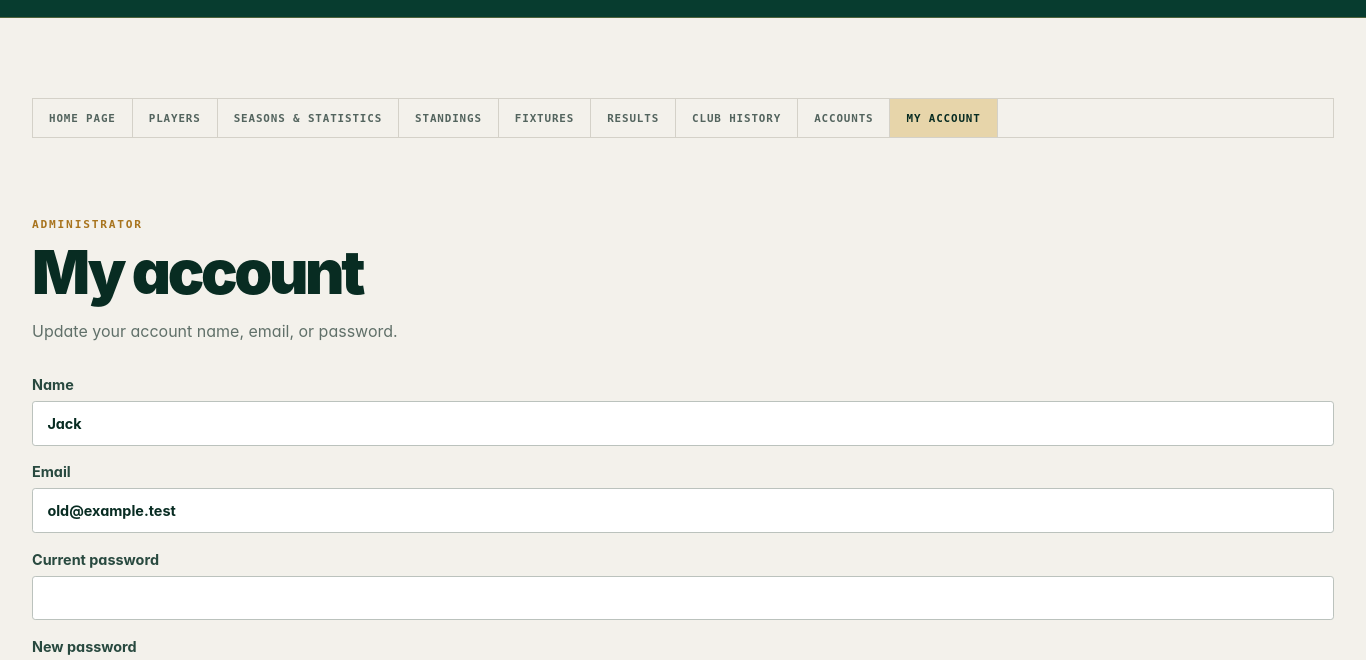
Test: App › lets the administrator update their normal login details
The image size is (1366, 660).
Replace the text in the field labelled "Name" with "Jack Humphreys" at (683, 424), box [32,401,1334,446]
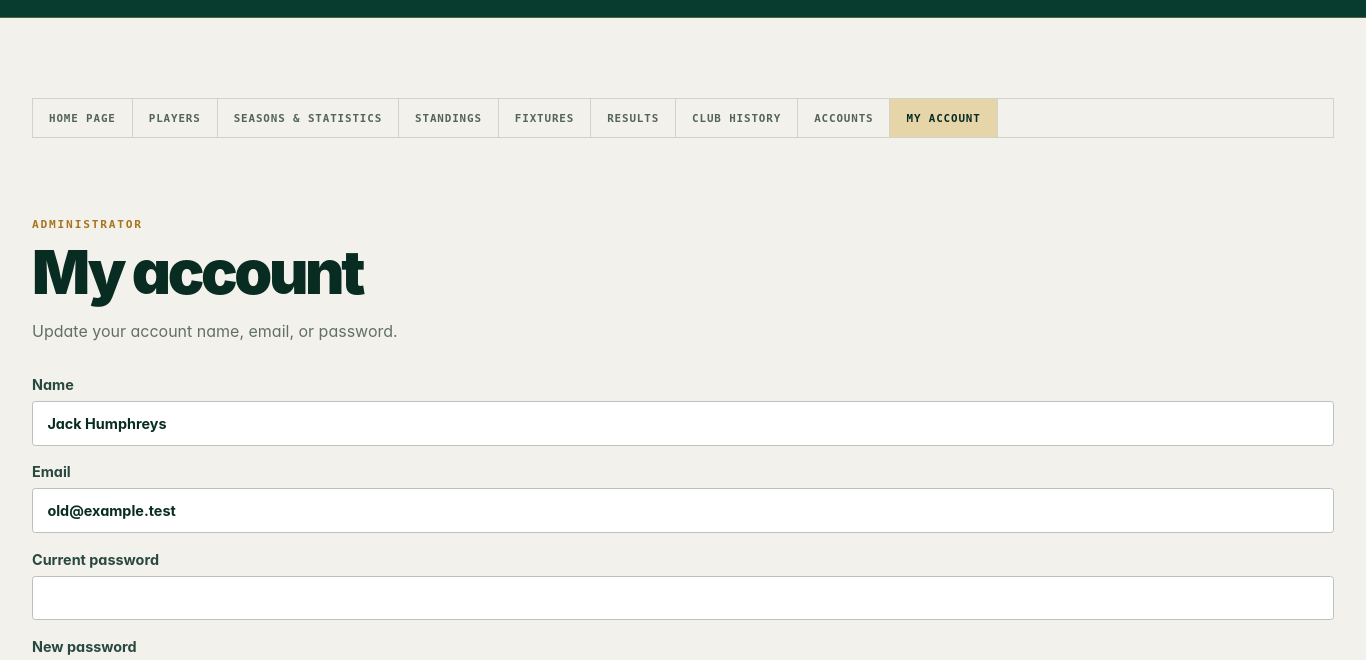
Replace the text in the field labelled "Email" with "owner.new@example.test" at (683, 511), box [32,488,1334,533]
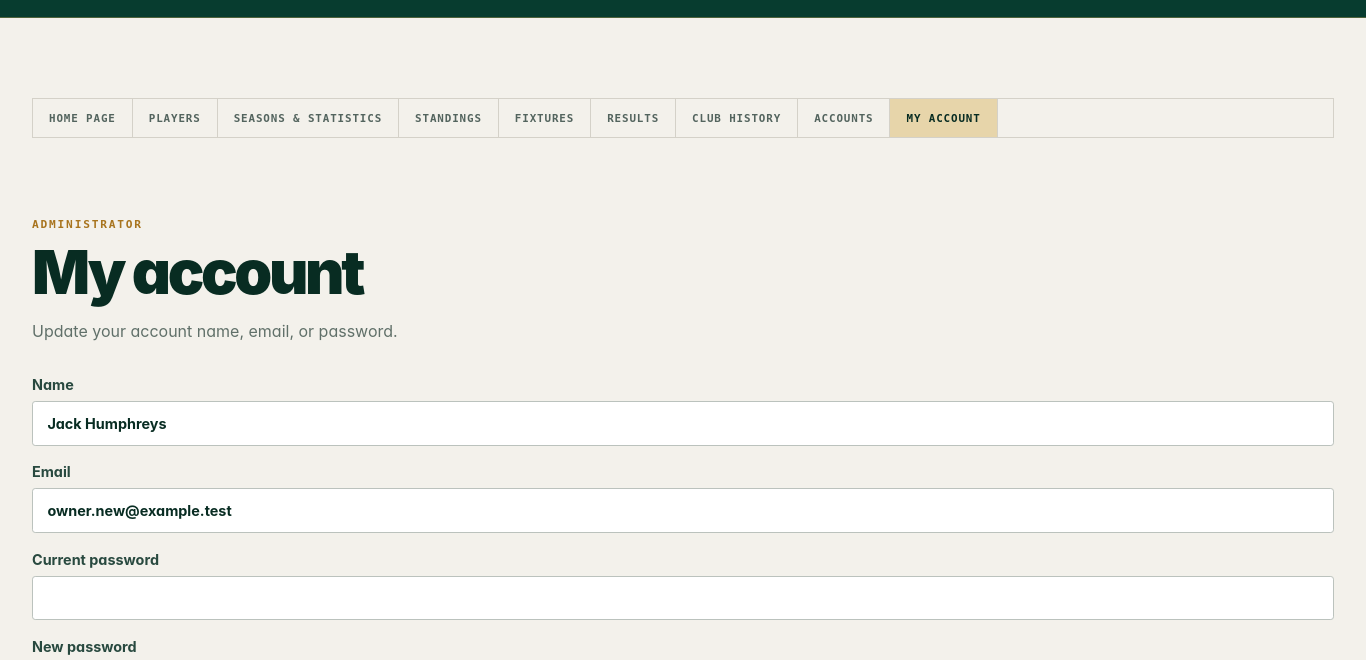
Type "current secure password" into the password field labelled "Current password" at (683, 598), box [32,576,1334,620]
(page scrolled)
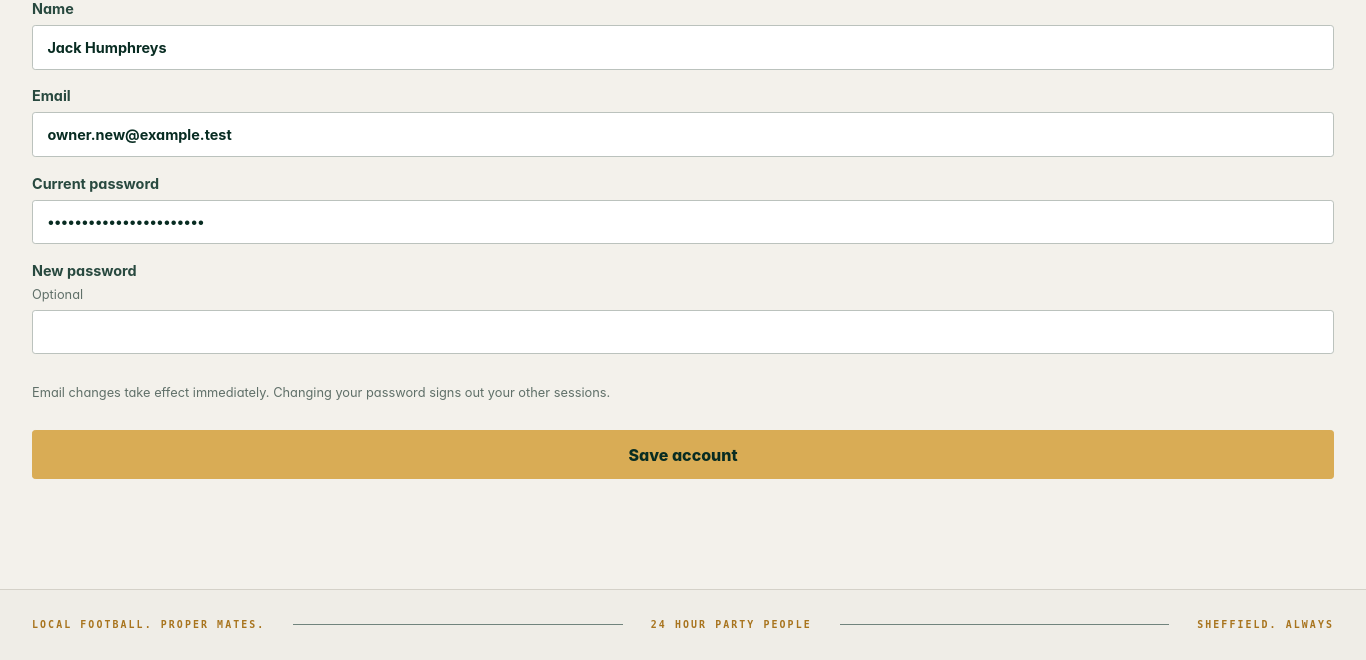
Click the button "Save account" at (683, 455), box [32,430,1334,479]
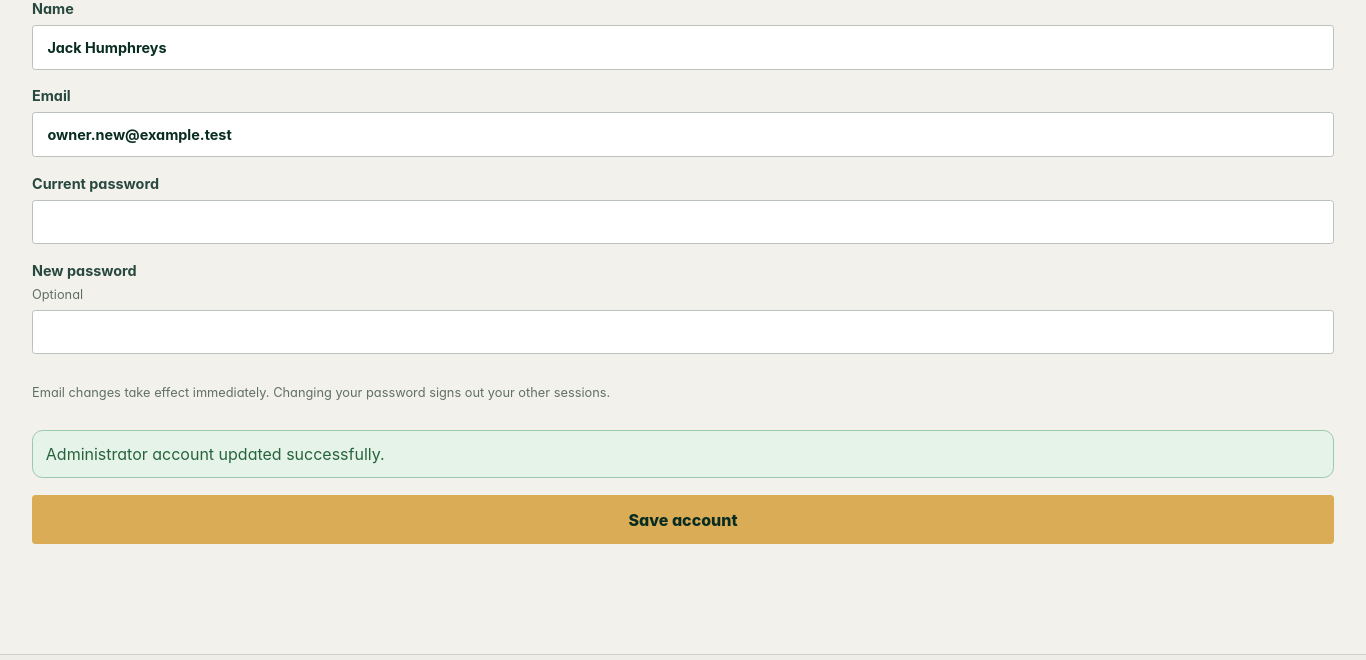
Check: the text "Administrator account updated successfully." is shown, box [32,430,1334,478]
